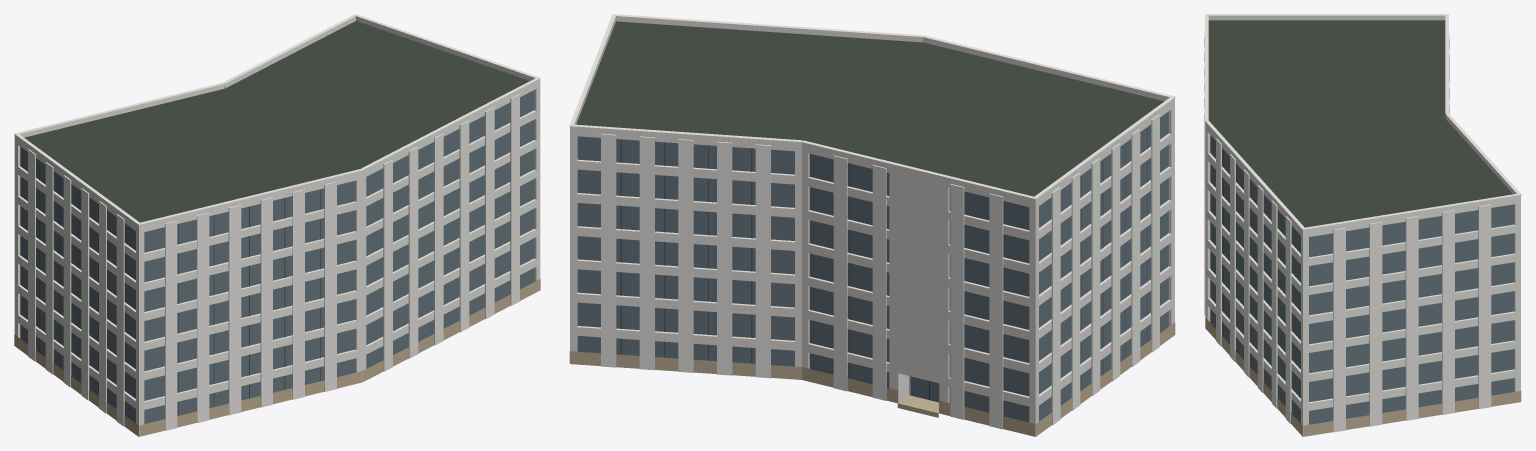
The picture shows the model from 3 angles, left to right: view 1: azimuth 30°, elevation 25°; view 2: azimuth 150°, elevation 25°; view 3: azimuth 270°, elevation 25°; orthographic projection. The views are drawn at different scales.
Visible parts, largest first — view 1: eh301__roof, eh301__glass, eh301__trim, eh301__wall, eh301__parapet, eh301__base, eh301__frame; view 2: eh301__roof, eh301__glass, eh301__trim, eh301__wall, eh301__parapet, eh301__base, eh301__frame; view 3: eh301__roof, eh301__glass, eh301__trim, eh301__wall, eh301__parapet, eh301__base, eh301__frame.
Boxes of the visible parts, x1,y1,x2,y2 form: eh301__roof: [24, 21, 529, 222]; eh301__glass: [20, 90, 534, 423]; eh301__trim: [14, 14, 540, 430]; eh301__wall: [14, 83, 540, 436]; eh301__parapet: [14, 16, 540, 229]; eh301__base: [14, 279, 540, 436]; eh301__frame: [39, 102, 510, 415]; eh301__roof: [576, 21, 1163, 196]; eh301__glass: [577, 111, 1168, 422]; eh301__trim: [569, 14, 1175, 429]; eh301__wall: [570, 102, 1174, 436]; eh301__parapet: [570, 16, 1174, 203]; eh301__base: [569, 322, 1175, 436]; eh301__frame: [620, 127, 1147, 400]; eh301__roof: [1208, 20, 1512, 227]; eh301__glass: [1210, 135, 1514, 424]; eh301__trim: [1204, 14, 1521, 432]; eh301__wall: [1205, 126, 1520, 436]; eh301__parapet: [1205, 15, 1520, 233]; eh301__base: [1205, 317, 1521, 436]; eh301__frame: [1223, 149, 1249, 366].
Bounding box in the file's own units: 49.55 × 22.6 × 30.77.
